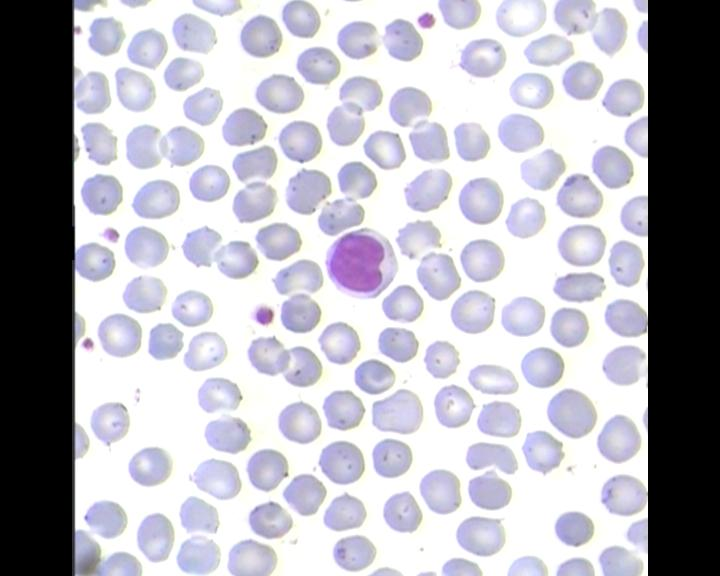lymp: (321, 226, 403, 300)
